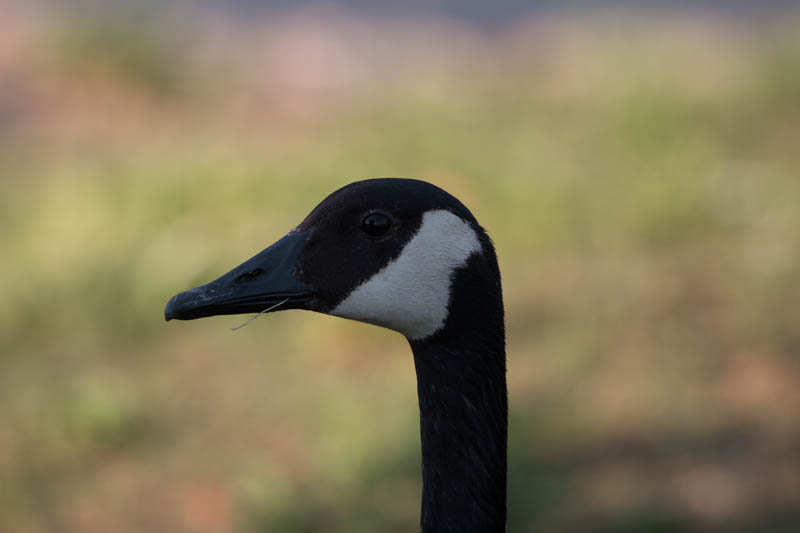goose-head: (164, 176, 505, 341)
